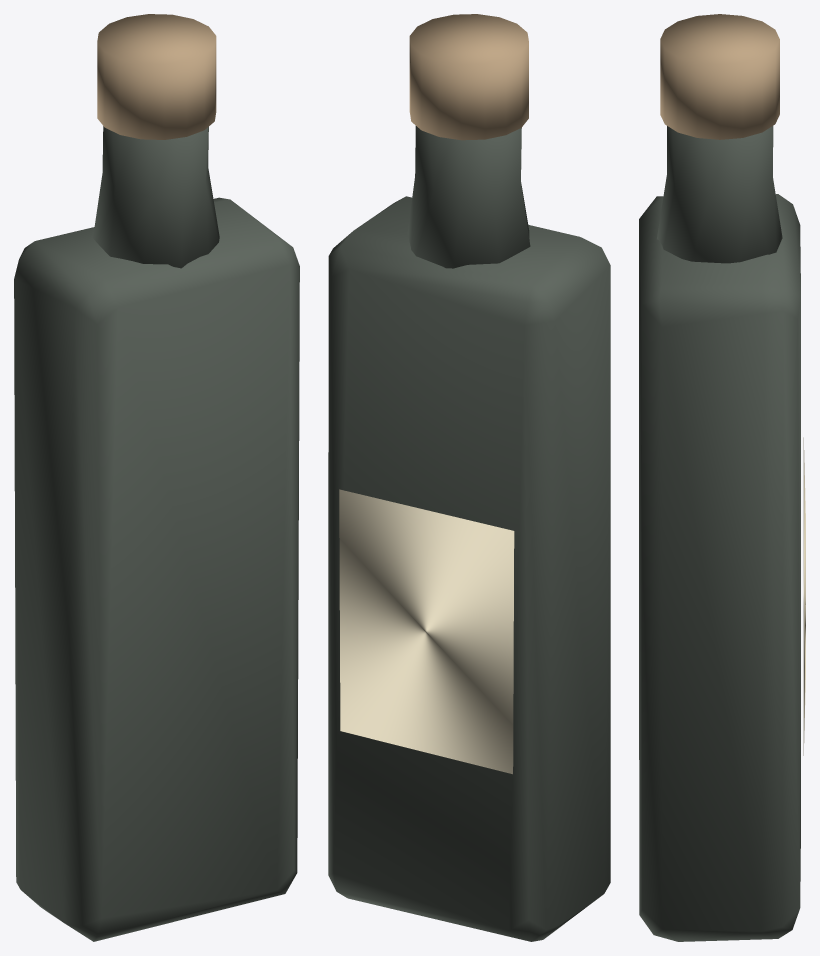
File: bottle_whiskey.glb
The picture shows the model from 3 angles, left to right: view 1: azimuth 30°, elevation 25°; view 2: azimuth 150°, elevation 25°; view 3: azimuth 270°, elevation 25°; orthographic projection.
Visible parts, largest first — view 1: bottle_whiskey; view 2: bottle_whiskey; view 3: bottle_whiskey.
Part boxes in pixels (x1=…): bottle_whiskey: x1=14, y1=14, x2=299, y2=941; bottle_whiskey: x1=328, y1=14, x2=610, y2=941; bottle_whiskey: x1=639, y1=14, x2=805, y2=941.
Bounding box in the file's own units: 0.0789 × 0.2843 × 0.0502.
